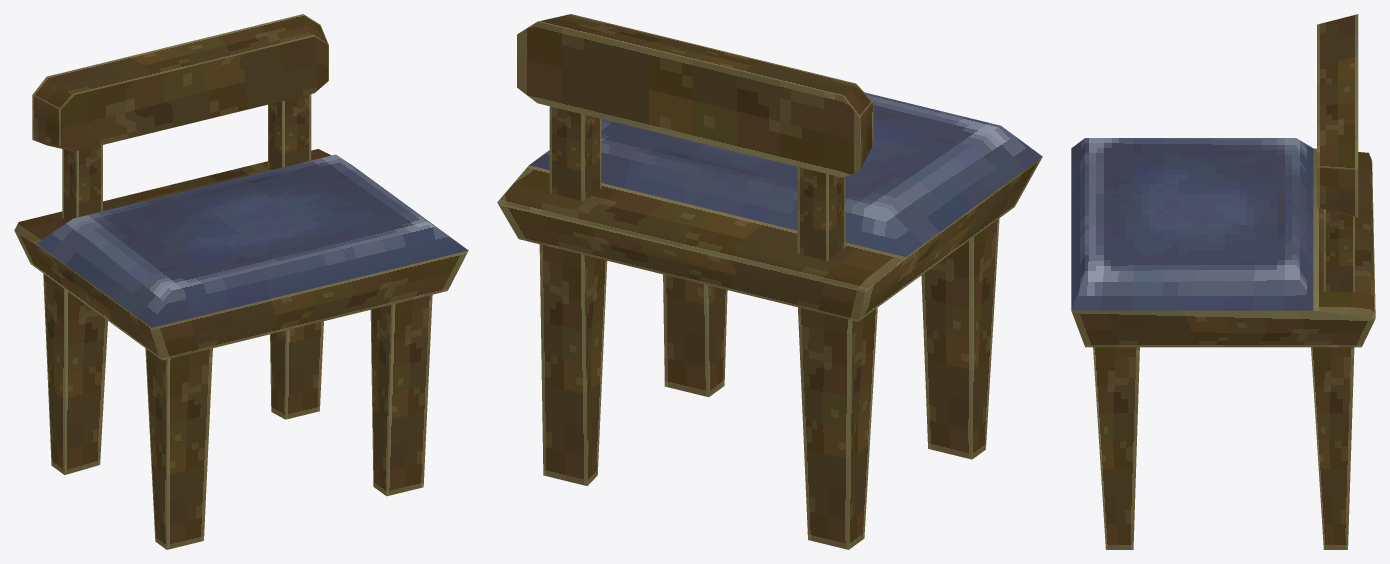
The model's file is o_isu2.glb.
3 renders of one model, left to right at view 1: azimuth 30°, elevation 25°; view 2: azimuth 150°, elevation 25°; view 3: azimuth 270°, elevation 25°, orthographic. The views are drawn at different scales.
Parts seen in each view (by area): view 1: o_isu2; view 2: o_isu2; view 3: o_isu2.
Part boxes in pixels (x1,y1,x2,y2): o_isu2: (14,14,468,549); o_isu2: (497,14,1042,549); o_isu2: (1071,14,1375,549).
Size of the model in its own units: 111 by 129 by 88.
Materials: 2 (2 with a texture image).
